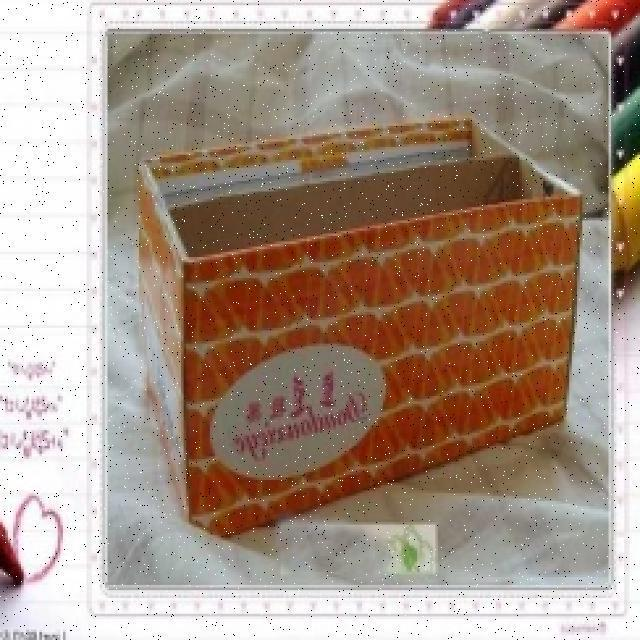box: (134, 106, 590, 554)
